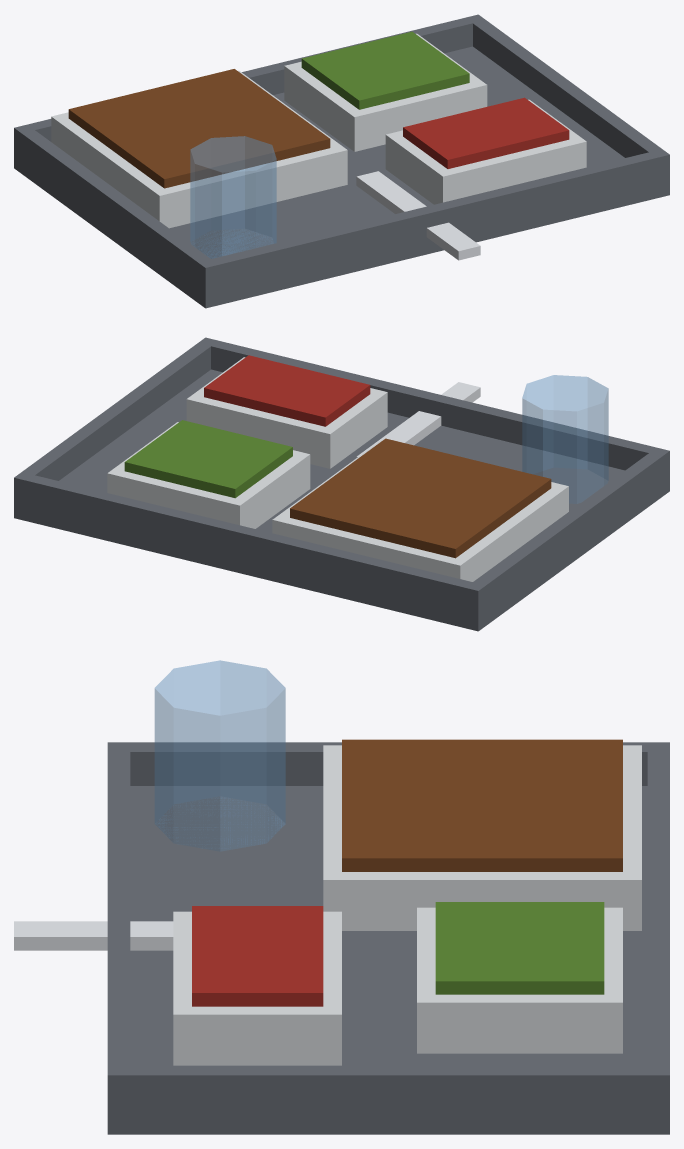
File: tableware_meal_tray.glb
The picture shows the model from 3 angles, top to bottom: view 1: azimuth 30°, elevation 25°; view 2: azimuth 150°, elevation 25°; view 3: azimuth 270°, elevation 25°; orthographic projection. The views are drawn at different scales.
Parts seen in each view (by area): view 1: tableware_meal_tray; view 2: tableware_meal_tray; view 3: tableware_meal_tray.
Part boxes in pixels (bbox=[...]): tableware_meal_tray: bbox=[14, 14, 669, 308]; tableware_meal_tray: bbox=[14, 337, 669, 631]; tableware_meal_tray: bbox=[14, 660, 669, 1134].
Bounding box in the file's own units: 0.42 × 0.095 × 0.35.
